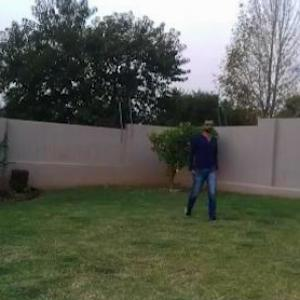follow: (187, 115, 222, 226)
